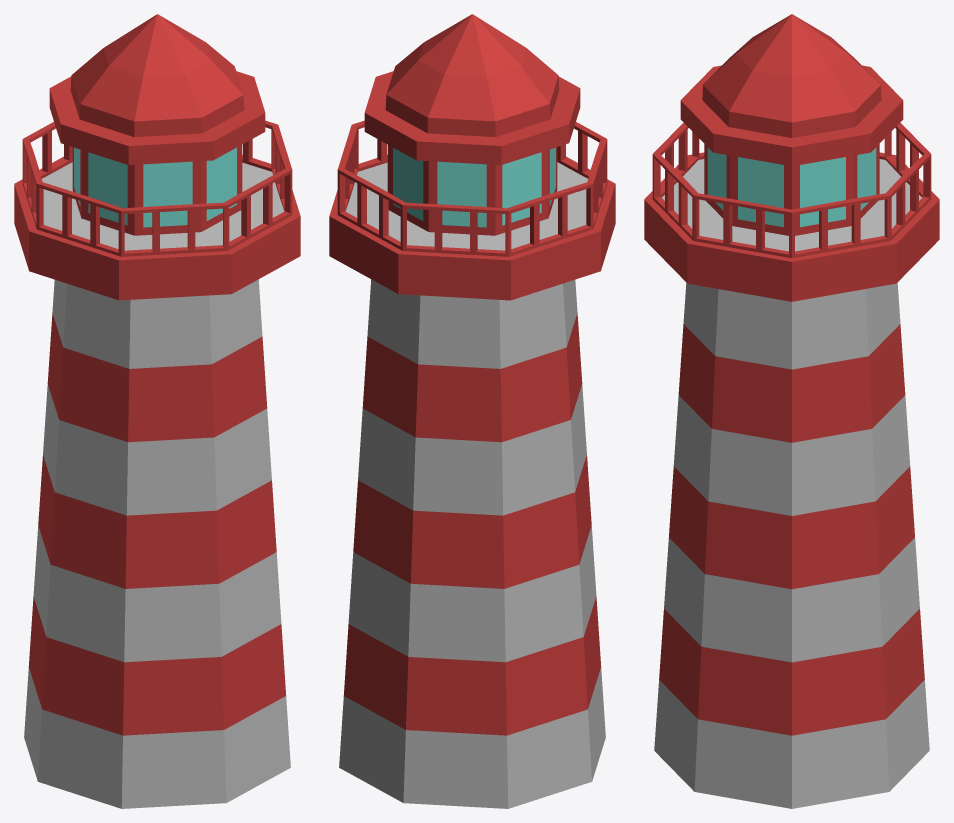
Rendered from latarnia.glb.
3 renders of one model, left to right at view 1: azimuth 30°, elevation 25°; view 2: azimuth 150°, elevation 25°; view 3: azimuth 270°, elevation 25°, orthographic.
Parts seen in each view (by area): view 1: latarnia; view 2: latarnia; view 3: latarnia.
Part boxes in pixels (x1,y1,x2,y2): latarnia: (14,14,300,808); latarnia: (329,14,615,808); latarnia: (644,14,939,808).
Size of the model in its own units: 2.15 by 5.9 by 2.15.
